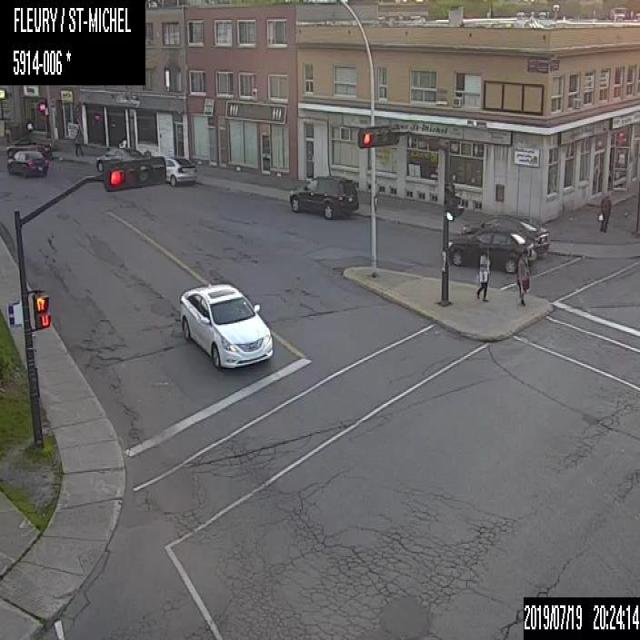pedestrian: (514, 253, 531, 306), (475, 253, 490, 300), (597, 189, 611, 232), (72, 125, 83, 159)
vehicle: (177, 280, 273, 369), (448, 228, 536, 272), (461, 212, 548, 255), (289, 174, 359, 218), (94, 147, 146, 172), (164, 153, 197, 187), (7, 148, 48, 175), (6, 138, 51, 159)
